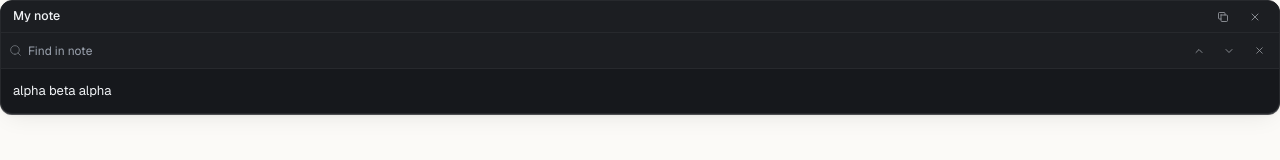
Test case: NoteNode › highlights and navigates search matches without leaving edit mode
Type "alpha" into the field labelled "Find in note" at (580, 50), box [28,42,1133,60]
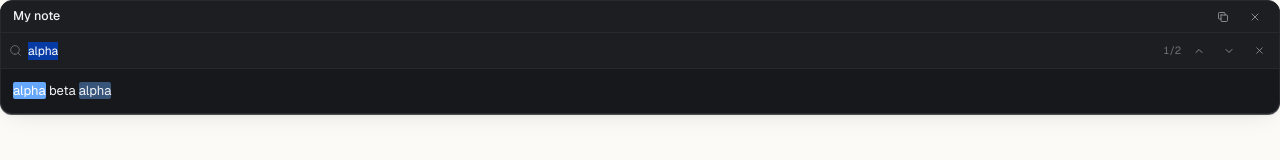
expect the 1st text box with class "cm-md-search" reads "alpha": met, box [13,82,46,99]
expect the text "1/2" is shown: met, box [1163,43,1181,57]
expect the number of text boxes with class "cm-md-search" is 2: met, box [13,82,46,99]; [79,82,112,99]
Press Enter in the field named "Find in note", box [28,42,1133,60]
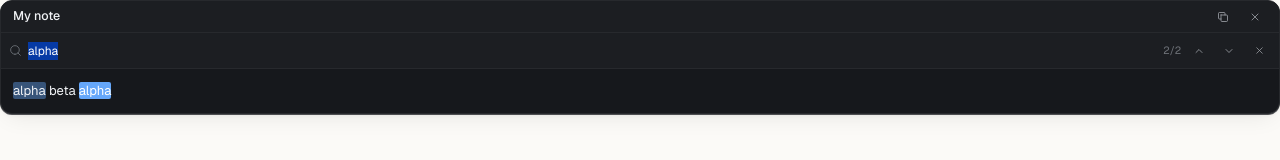
expect the text "2/2" is shown: met, box [1163,43,1181,57]
